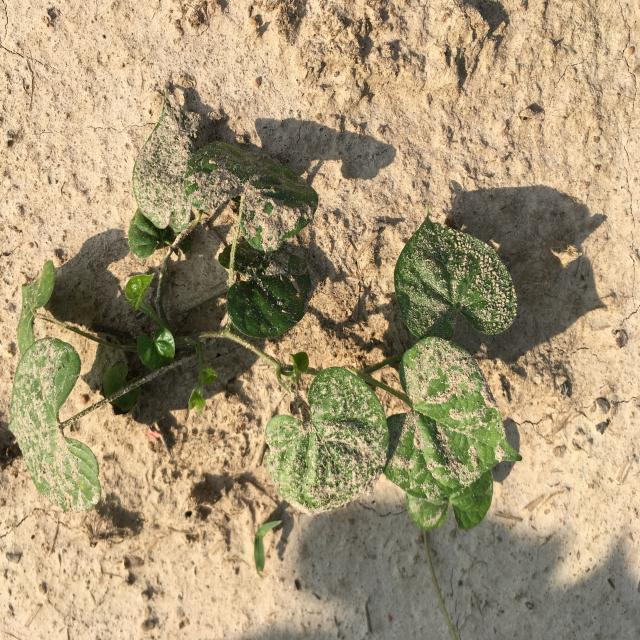MorningGlory: (6, 87, 523, 533)
